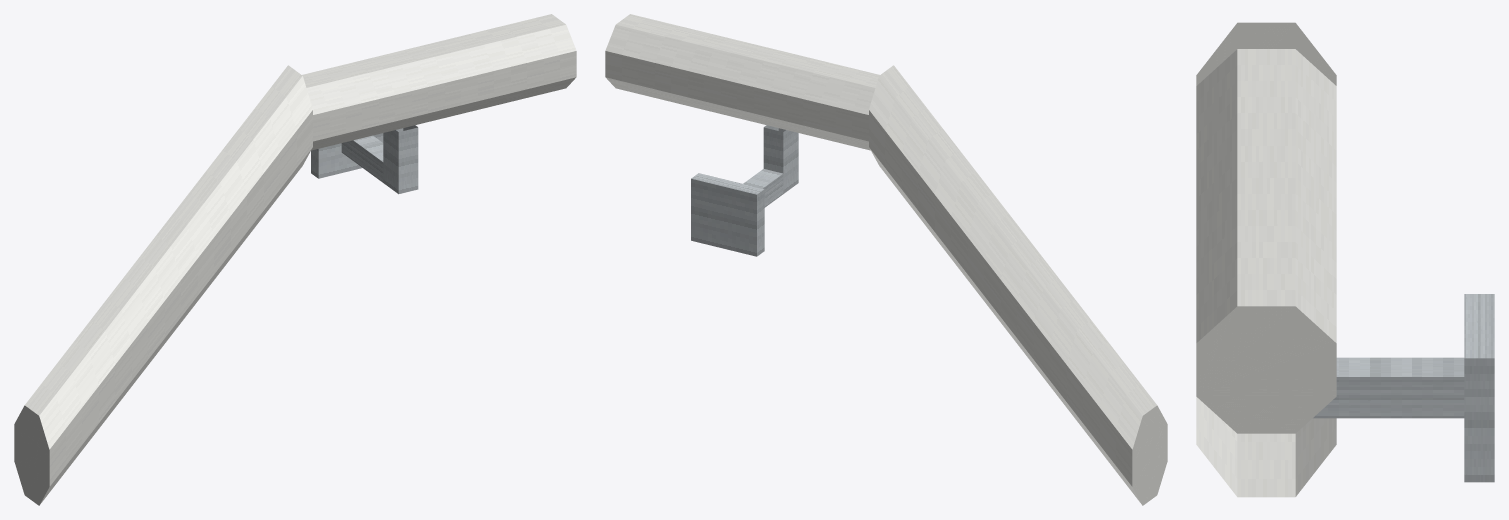
The model's file is top_pos.obj.
The picture shows the model from 3 angles, left to right: view 1: azimuth 30°, elevation 25°; view 2: azimuth 150°, elevation 25°; view 3: azimuth 270°, elevation 25°; orthographic projection. The views are drawn at different scales.
Parts seen in each view (by area): view 1: handrail_wall_white_round_top_pos; view 2: handrail_wall_white_round_top_pos; view 3: handrail_wall_white_round_top_pos.
Boxes of the visible parts, x1,y1,x2,y2 form: handrail_wall_white_round_top_pos: (14,14,576,505); handrail_wall_white_round_top_pos: (605,14,1167,505); handrail_wall_white_round_top_pos: (1196,22,1494,497).
Bounding box in the file's own units: 1 × 0.6633 × 0.2452.
